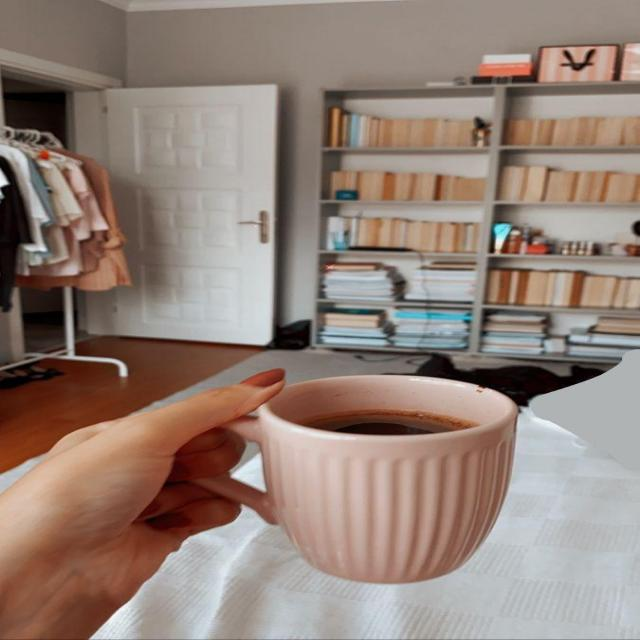cup-handle: (174, 373, 522, 584)
